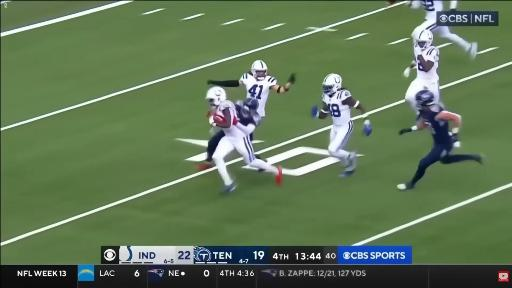Helmet: (206, 87, 226, 107), (323, 74, 341, 96), (415, 30, 433, 49), (416, 90, 435, 107), (251, 60, 267, 80), (243, 98, 258, 115)
Jersey: (240, 72, 277, 117), (419, 105, 452, 146), (323, 89, 351, 125), (415, 46, 439, 82), (235, 104, 260, 126), (217, 100, 236, 123), (422, 0, 443, 20)
Player: (398, 90, 482, 190), (206, 87, 282, 192), (312, 74, 371, 177), (208, 60, 295, 119), (407, 0, 477, 58), (404, 30, 440, 114), (196, 129, 224, 170)
